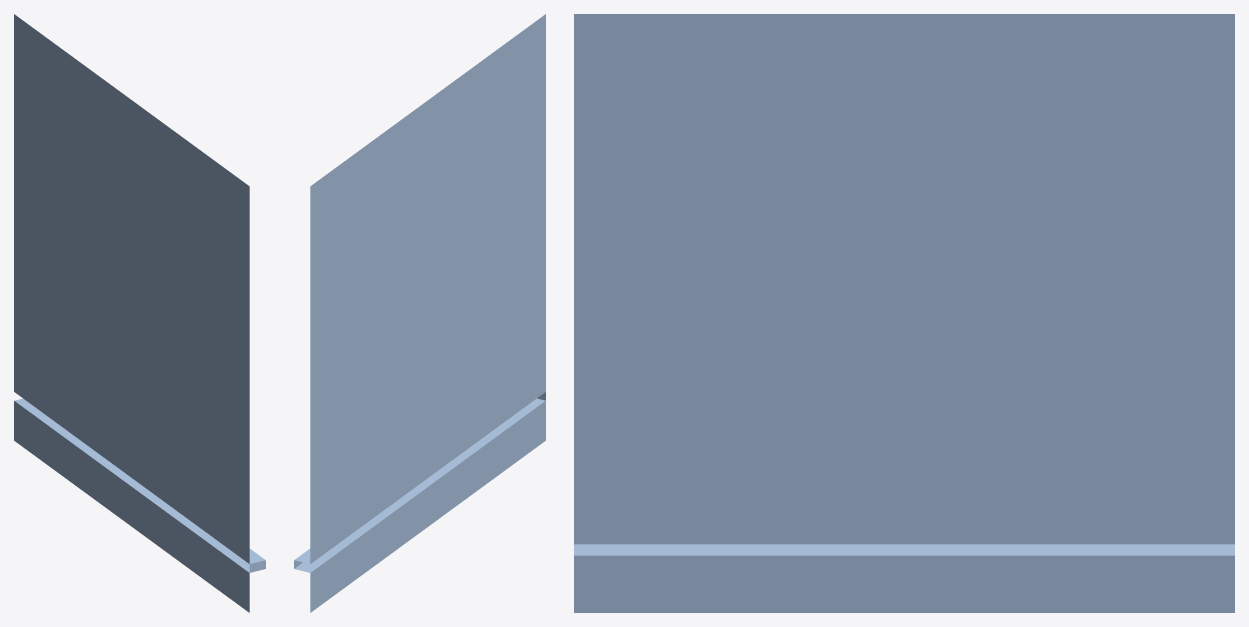
File: ParedNS.gltf
3 renders of one model, left to right at view 1: azimuth 30°, elevation 25°; view 2: azimuth 150°, elevation 25°; view 3: azimuth 270°, elevation 25°, orthographic. The views are drawn at different scales.
Parts seen in each view (by area): view 1: Pared Ns; view 2: Pared Ns; view 3: Pared Ns.
Boxes of the visible parts, x1,y1,x2,y2 form: Pared Ns: [14, 14, 265, 612]; Pared Ns: [294, 14, 545, 612]; Pared Ns: [574, 14, 1234, 612].
Bounding box in the file's own units: 0.08 × 2 × 2.
